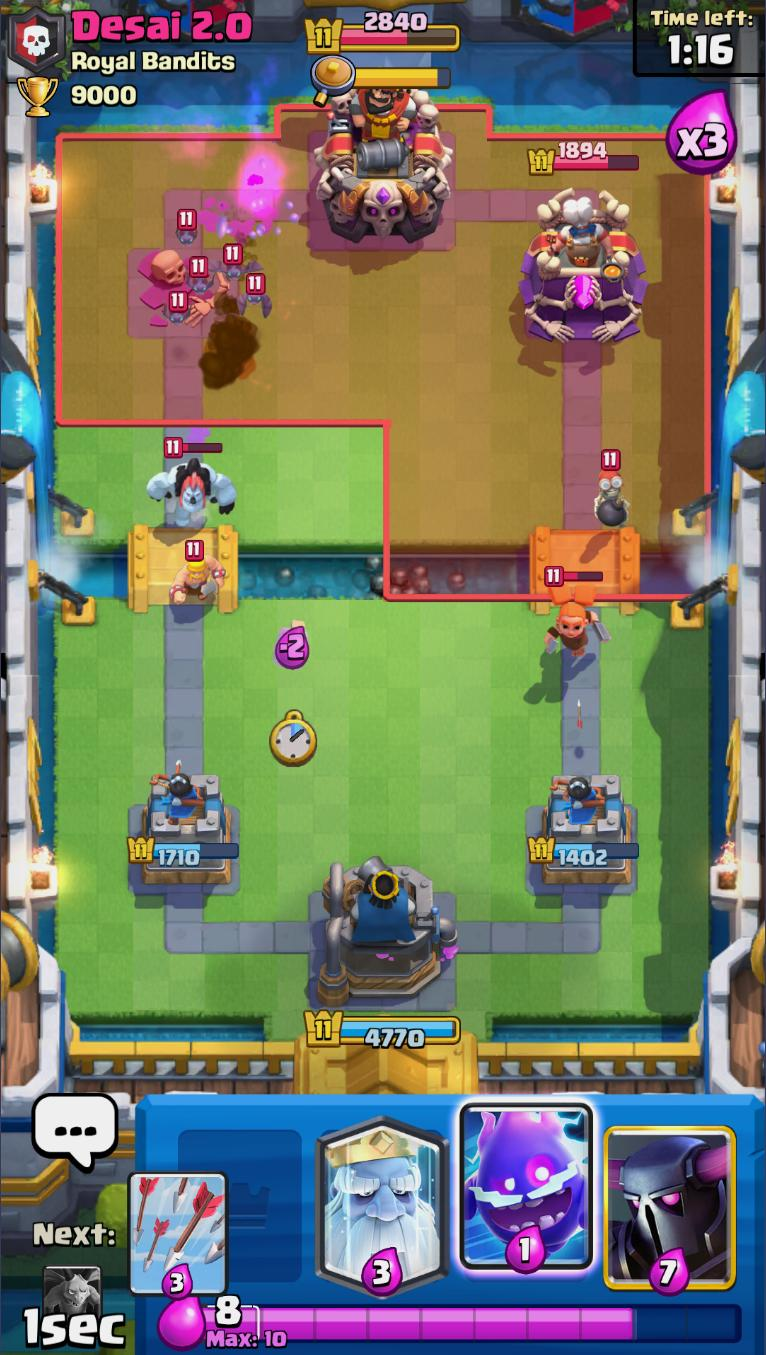ArrowDeck: (124, 1166, 230, 1298)
Barbarian: (168, 538, 227, 606)
Bat: (205, 242, 265, 281), (234, 274, 275, 321), (180, 256, 215, 297), (163, 287, 192, 327), (174, 208, 197, 247)
Berserker: (541, 565, 613, 659)
Bomber: (591, 449, 631, 533)
Chef: (553, 198, 616, 277)
ElectroSpiritDeck: (455, 1096, 598, 1295)
Elixir: (204, 1293, 747, 1350)
Empty: (166, 1095, 313, 1287)
EnemyTower: (517, 186, 649, 348)
EnemyTowerBrocken: (122, 240, 243, 340)
IceGolem: (147, 436, 240, 521)
KingTower: (312, 82, 455, 245)
KingTowerHP: (303, 9, 463, 56)
MinionsNext: (41, 1264, 103, 1315)
MyKingHP: (300, 1006, 462, 1051)
MyKingTower: (316, 851, 462, 1009)
MyPrincessTower: (125, 770, 242, 892), (528, 775, 639, 894)
MyPrincessTowerHP: (528, 833, 642, 869), (128, 834, 244, 868)
PekkaDeck: (601, 1096, 741, 1296)
RoyaleGhostDeck: (308, 1098, 451, 1296)
TowerPrincessHP: (527, 140, 643, 179)
